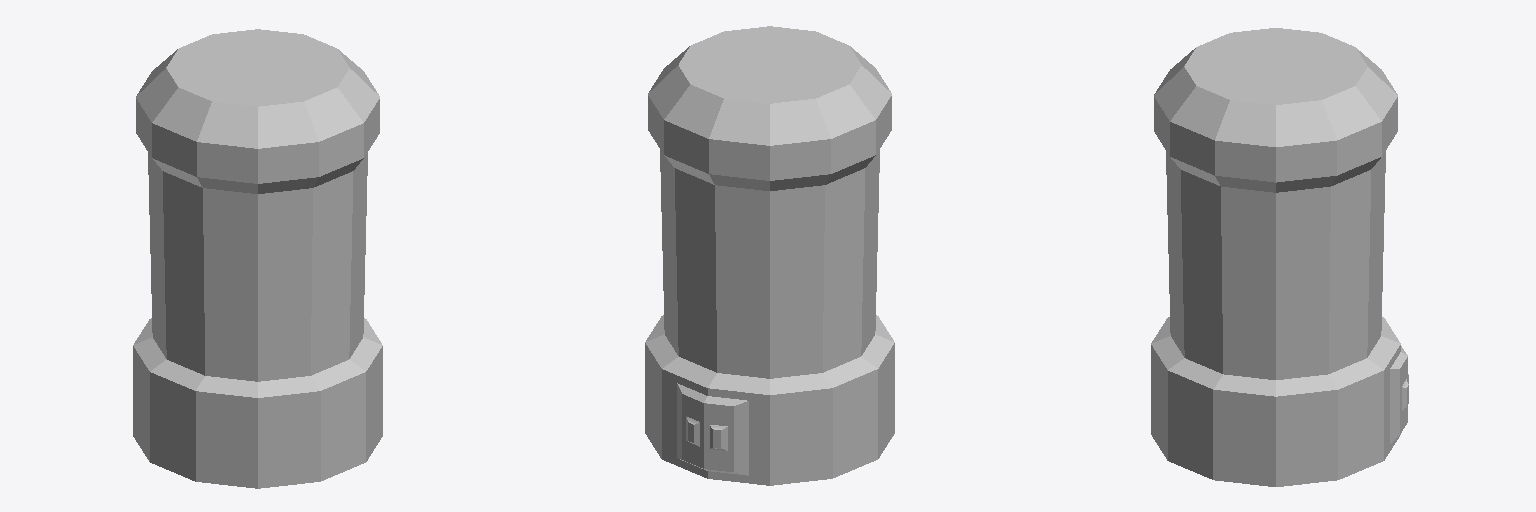
File: Светильник 1.obj
The picture shows the model from 3 angles: view 1: azimuth 30°, elevation 25°; view 2: azimuth 150°, elevation 25°; view 3: azimuth 270°, elevation 25°; orthographic projection.
Parts seen in each view (by area): view 1: Cylinder, Cylinder.001; view 2: Cylinder, Cylinder.001; view 3: Cylinder, Cylinder.001.
Part boxes in pixels (left/top/right/bottom): Cylinder: left=133, top=29, right=382, bottom=488; Cylinder.001: left=148, top=153, right=367, bottom=381; Cylinder: left=645, top=26, right=894, bottom=485; Cylinder.001: left=660, top=150, right=879, bottom=378; Cylinder: left=1151, top=28, right=1408, bottom=486; Cylinder.001: left=1166, top=151, right=1385, bottom=379.
Bounding box in the file's own units: 2 × 3.35 × 2.06.